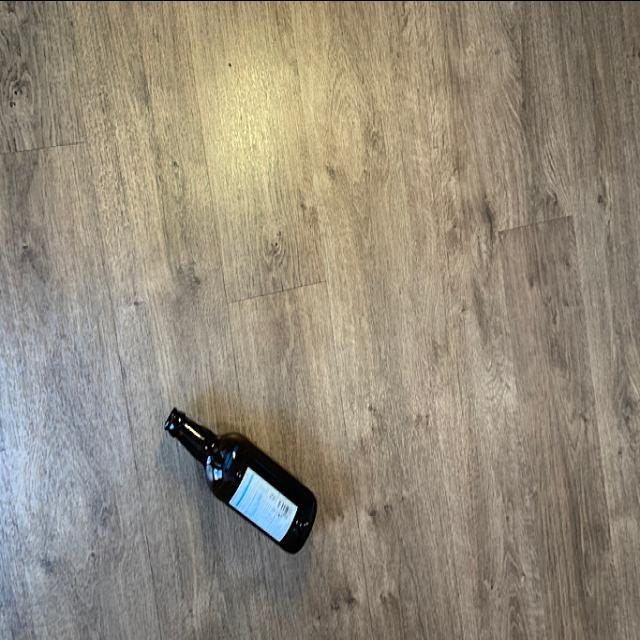litter: (160, 404, 322, 556)
